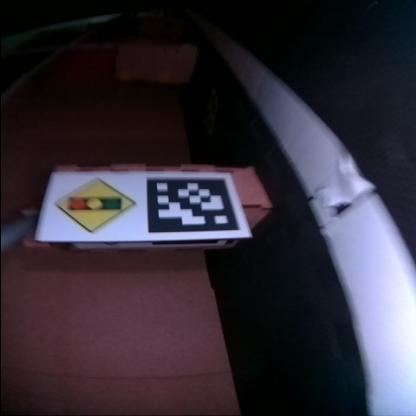QR code: (144, 176, 241, 234), (203, 88, 216, 132)
Signal sign: (34, 172, 140, 240)
